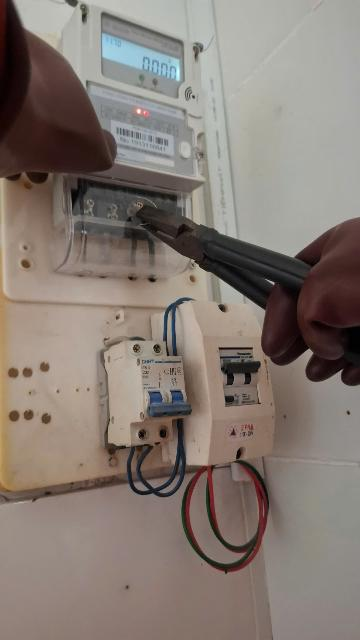gloves: (0, 0, 138, 208), (259, 198, 360, 384)
